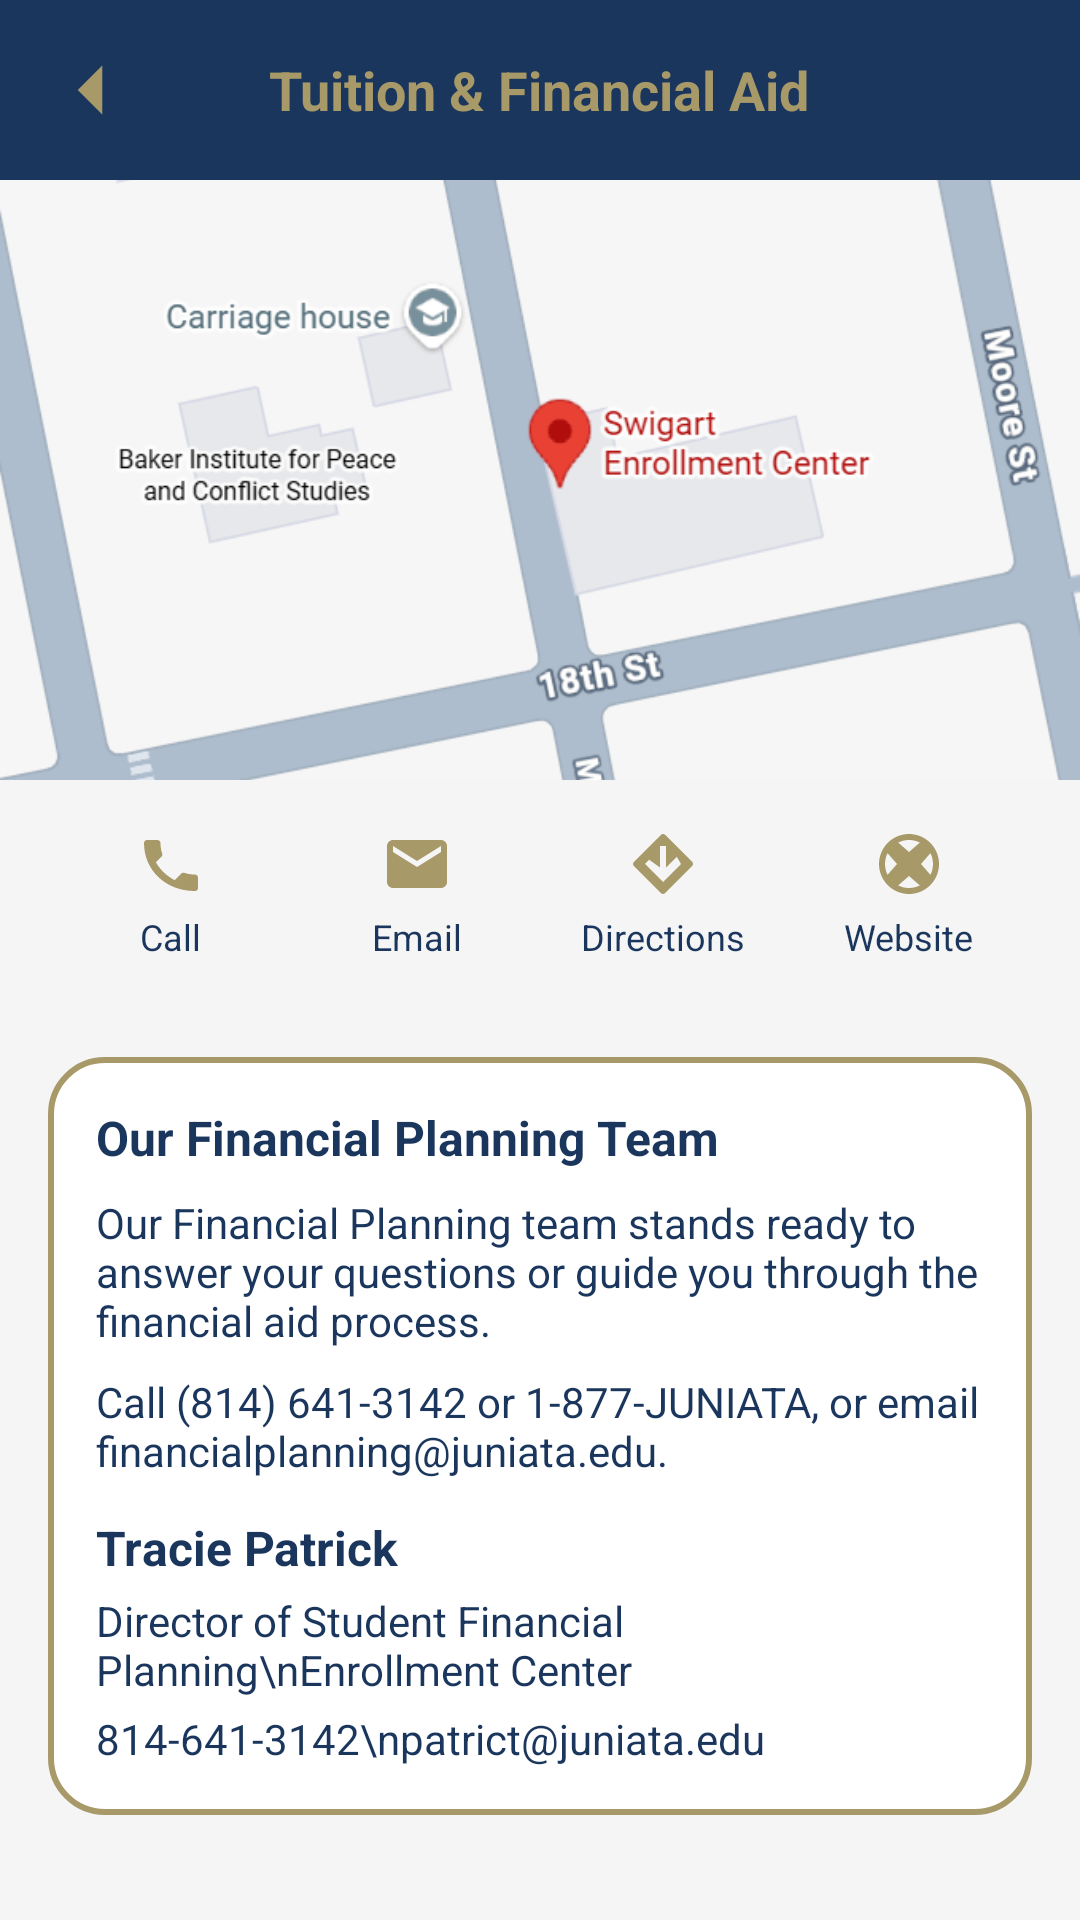

Where to tap for icons on this 1080px×1920px app screen, as [x,y]:
back: [90,90]
